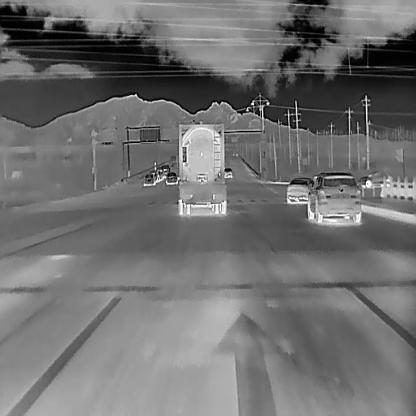car: (306, 170, 362, 222), (285, 176, 313, 202), (359, 170, 391, 187), (142, 173, 154, 186), (164, 172, 177, 184), (149, 170, 160, 183), (154, 167, 165, 179), (222, 166, 232, 178), (160, 164, 170, 175)
truck: (176, 122, 227, 214)
